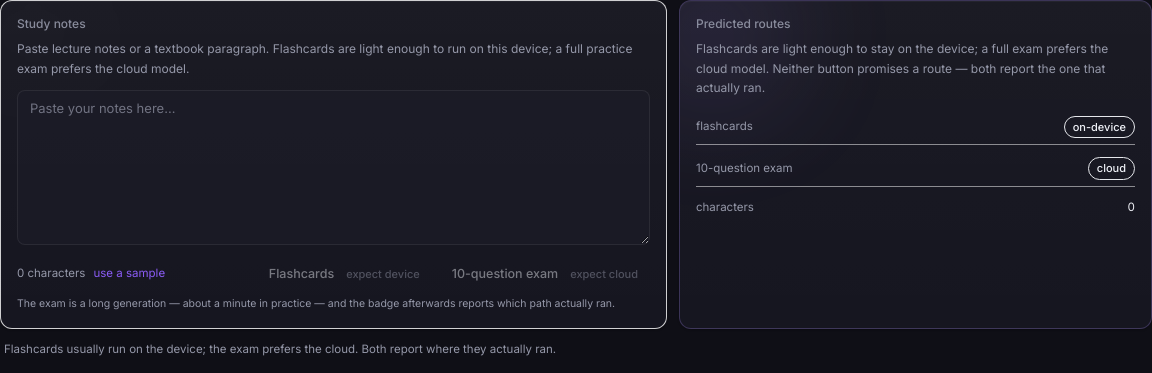
Test: QuizPage › keeps both actions disabled until there are notes
The image size is (1152, 373).
Check: the button "Flashcards expect device" is disabled, box [257,258,432,289]
Check: the button "10-question exam expect cloud" is disabled, box [440,258,650,289]
Type "now there are notes" into the text box named "Study notes" at (334, 167), box [17,90,650,244]
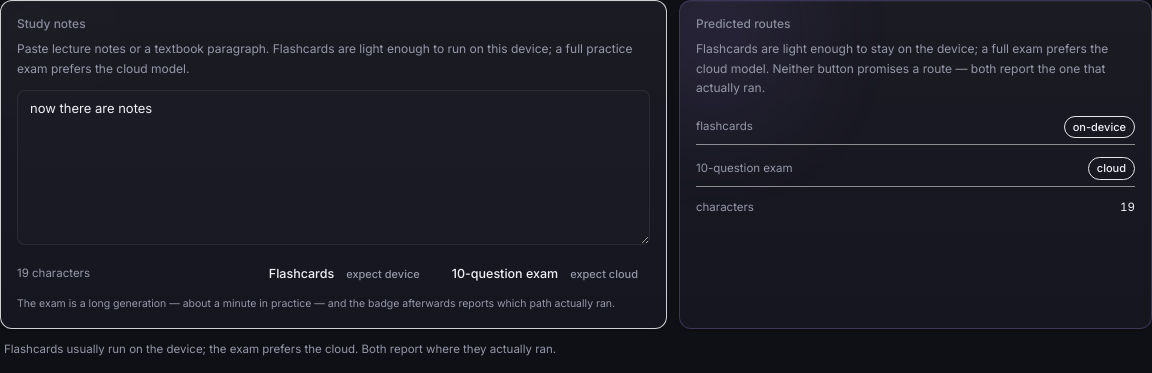
Check: the button "Flashcards expect device" is enabled, box [257,258,432,289]
